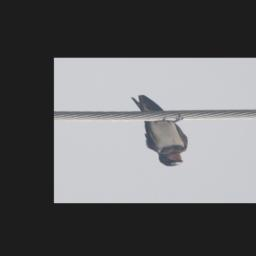Swallow: (131, 95, 188, 167)
